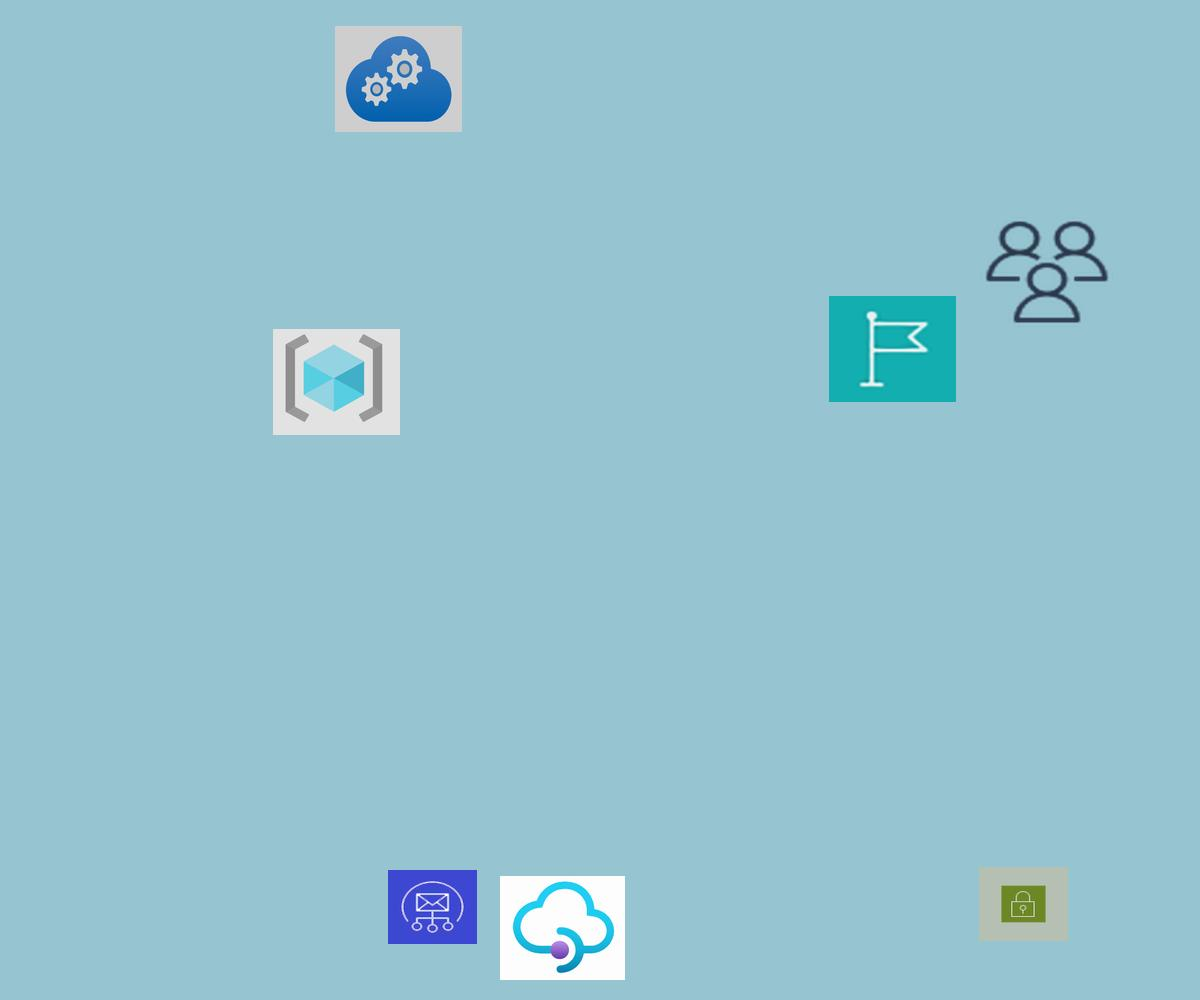AWS-Public-subnet: (979, 867, 1068, 941)
AWS-Region: (829, 296, 956, 402)
AWS-Res_Users: (981, 217, 1113, 327)
AWS-Simple-Email-Service: (388, 870, 477, 944)
Azure_api_gateway: (500, 876, 625, 980)
Azure_cloud_services: (335, 26, 462, 132)
Azure_resource_group: (273, 329, 400, 435)
